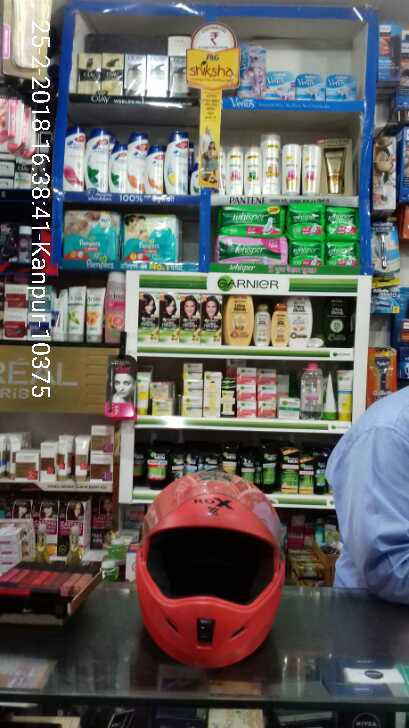gillete: (371, 215, 400, 274), (367, 346, 396, 396), (371, 278, 400, 315)
venus: (241, 47, 265, 96), (297, 73, 326, 102), (267, 72, 295, 99), (326, 75, 354, 102)
